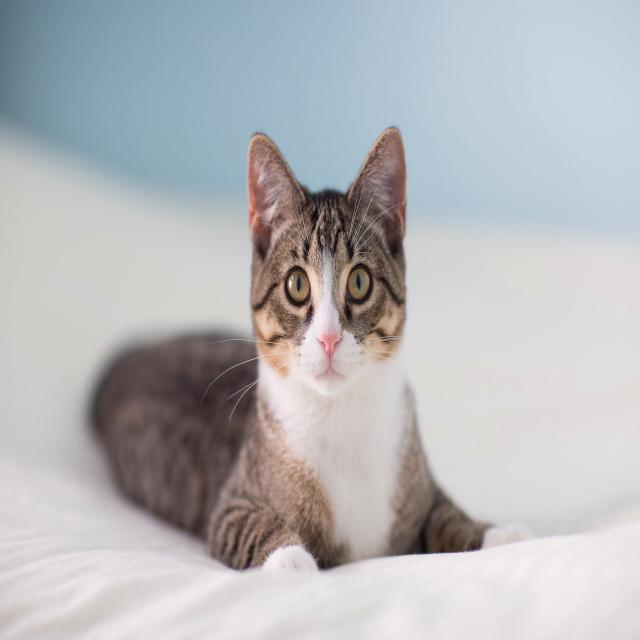cat: (93, 127, 521, 569)
